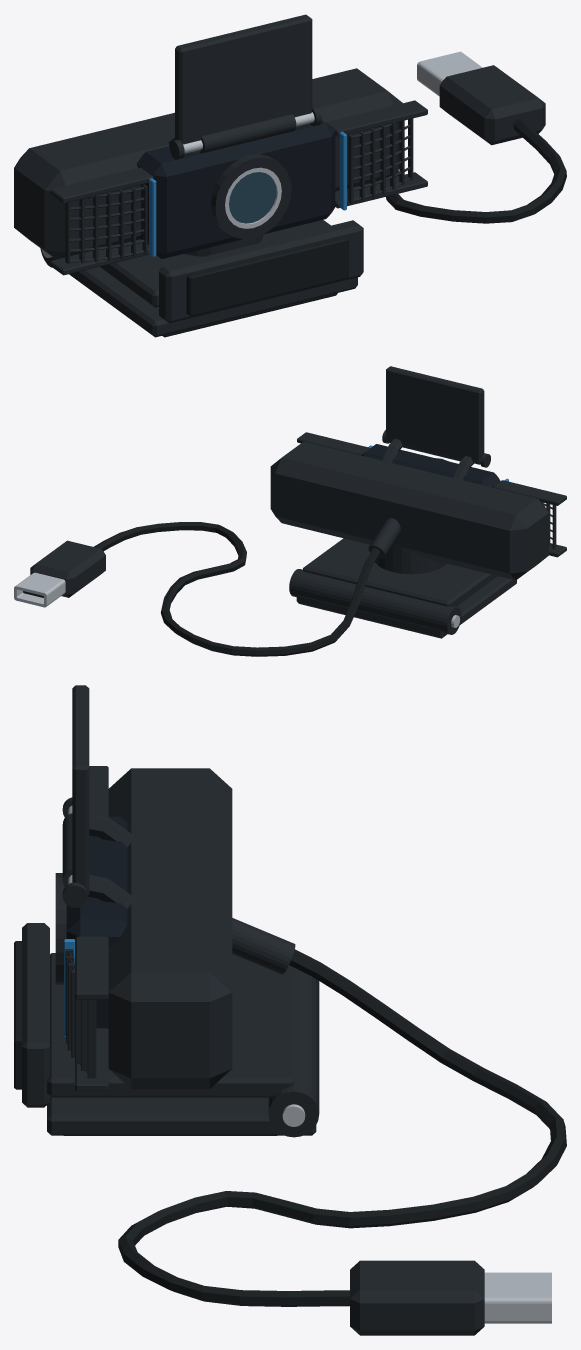
Rendered from full.glb.
3 views of the same model, one above another, from view 1: azimuth 30°, elevation 25°; view 2: azimuth 150°, elevation 25°; view 3: azimuth 270°, elevation 25° (orthographic). The views are drawn at different scales.
Parts seen in each view (by area): view 1: Closed rear camera shell, Raised privacy cover, Central glossy face, Front lip rubber, USB A molded end, Short front monitor lip, Lower folding clip plate, Complete generic USB cable, Recessed lens concentric rim, Upper clip plate, Closed lens glass, Privacy cover hinge sleeve (+11 smaller); view 2: Closed rear camera shell, Raised privacy cover, Upper clip plate, Complete generic USB cable, Folded clip rear hinge, USB A molded end, Lower folding clip plate, Central glossy face, USB A hollow metal shell, Generic camera clip mount, Grille upper rail -1, Rear generic strain relief (+1 smaller); view 3: Closed rear camera shell, Complete generic USB cable, Upper clip plate, USB A molded end, Lower folding clip plate, Short front monitor lip, Folded clip rear hinge, Central glossy face, Raised privacy cover, USB A hollow metal shell, Grille upper rail 1, Rear generic strain relief (+6 smaller).
Part boxes in pixels (<box>): Closed rear camera shell: <box>14,68,402,259</box>; Raised privacy cover: <box>175,14,312,144</box>; Central glossy face: <box>136,120,335,258</box>; Front lip rubber: <box>186,236,348,316</box>; USB A molded end: <box>439,65,545,145</box>; Short front monitor lip: <box>159,220,363,323</box>; Lower folding clip plate: <box>69,266,357,337</box>; Complete generic USB cable: <box>386,119,566,223</box>; Recessed lens concentric rim: <box>211,154,291,239</box>; Upper clip plate: <box>100,220,330,307</box>; Closed lens glass: <box>229,172,276,223</box>; Privacy cover hinge sleeve: <box>199,114,296,153</box>; Closed rear camera shell: <box>270,441,548,580</box>; Raised privacy cover: <box>386,366,484,464</box>; Upper clip plate: <box>303,538,497,606</box>; Complete generic USB cable: <box>94,522,380,656</box>; Folded clip rear hinge: <box>289,569,461,634</box>; USB A molded end: <box>30,540,105,597</box>; Lower folding clip plate: <box>296,576,516,638</box>; Central glossy face: <box>361,444,500,487</box>; USB A hollow metal shell: <box>14,572,65,607</box>; Generic camera clip mount: <box>375,545,446,574</box>; Grille upper rail -1: <box>493,480,566,505</box>; Rear generic strain relief: <box>368,518,400,558</box>; Closed rear camera shell: <box>108,768,232,1089</box>; Complete generic USB cable: <box>118,949,566,1306</box>; Upper clip plate: <box>47,953,293,1097</box>; USB A molded end: <box>350,1260,484,1335</box>; Lower folding clip plate: <box>47,1096,316,1135</box>; Short front monitor lip: <box>22,923,49,1107</box>; Folded clip rear hinge: <box>268,967,319,1137</box>; Central glossy face: <box>66,816,127,1029</box>; Raised privacy cover: <box>72,685,89,895</box>; USB A hollow metal shell: <box>484,1272,551,1323</box>; Grille upper rail 1: <box>75,936,108,999</box>; Rear generic strain relief: <box>232,918,295,974</box>.
Bounding box in the file's own units: 0.156 × 0.0705 × 0.0986.
